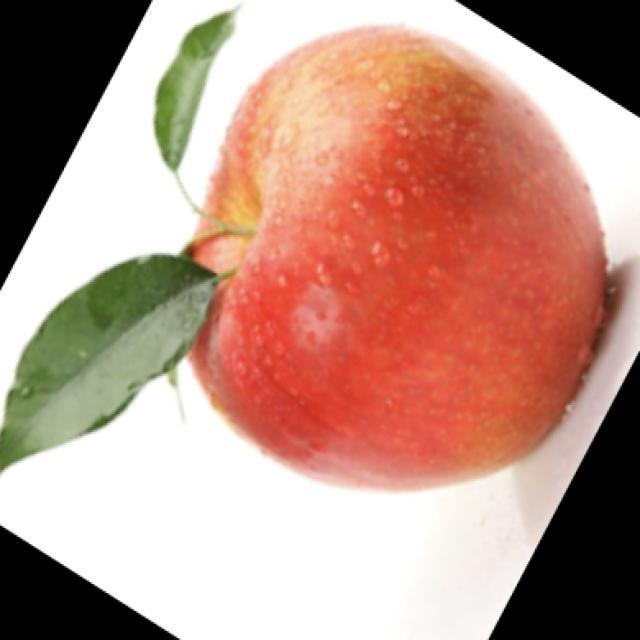Apple: (178, 22, 609, 493)
